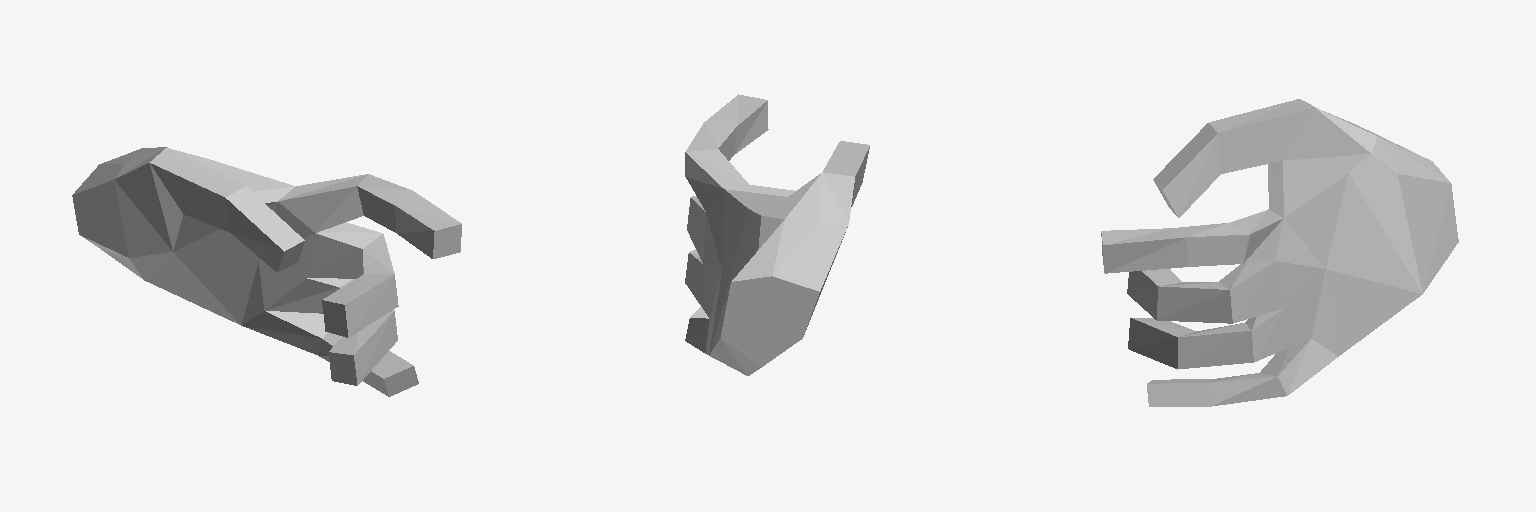
The model's file is Flute_LeftHand05.obj.
3 renders of one model, left to right at view 1: azimuth 30°, elevation 25°; view 2: azimuth 150°, elevation 25°; view 3: azimuth 270°, elevation 25°, orthographic.
Parts seen in each view (by area): view 1: Converted object 0; view 2: Converted object 0; view 3: Converted object 0.
Part boxes in pixels (x1,y1,x2,y2): Converted object 0: (72,147,461,396); Converted object 0: (685,94,869,375); Converted object 0: (1101,99,1458,406).
Bounding box in the file's own units: 3.87 × 3.57 × 5.08.